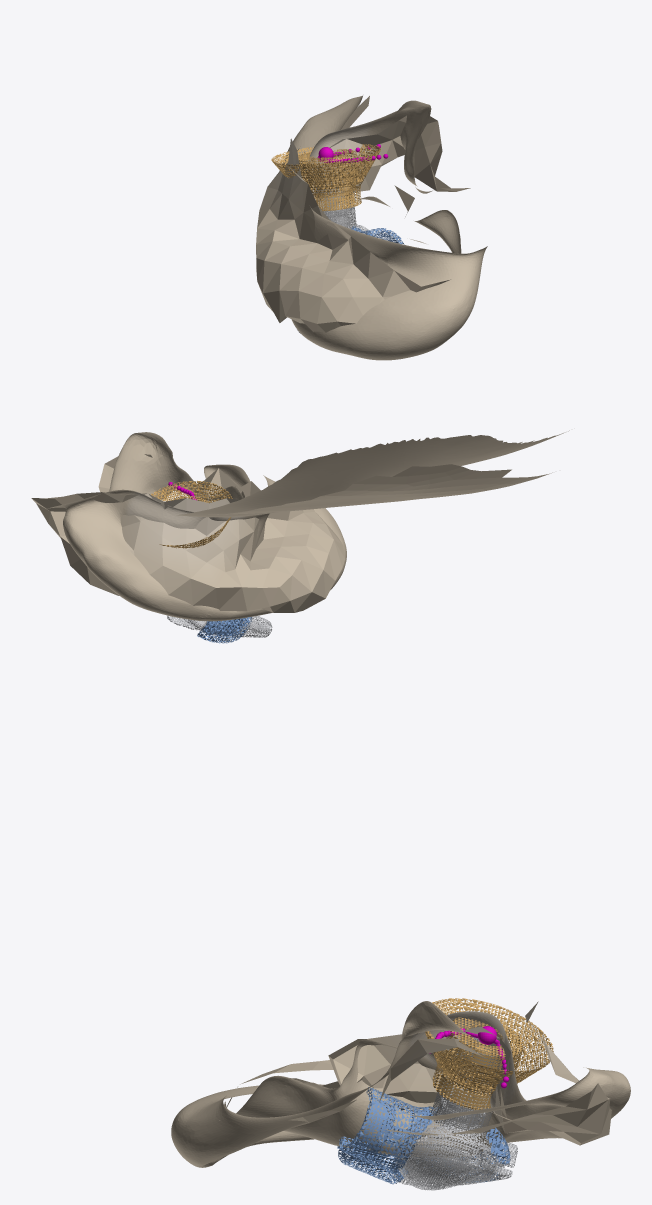
The model's file is marked_P0023.glb.
The picture shows the model from 3 angles, top to bottom: view 1: azimuth 30°, elevation 25°; view 2: azimuth 150°, elevation 25°; view 3: azimuth 270°, elevation 25°; orthographic projection. The views are drawn at different scales.
Parts seen in each view (by area): view 1: ear, carrier, nozzle_insert_short; view 2: ear, carrier, jacket_wing, core; view 3: ear, carrier, jacket_wing, core, faceplate, nozzle_insert_short.
Boxes of the visible parts, box(x1,y1,x2,y2) form: ear: box(256, 95, 487, 360); carrier: box(271, 144, 380, 211); nozzle_insert_short: box(313, 164, 356, 228); ear: box(31, 430, 569, 621); carrier: box(151, 480, 232, 548); jacket_wing: box(197, 617, 252, 643); core: box(167, 615, 272, 637); ear: box(171, 1001, 630, 1167); carrier: box(425, 998, 553, 1110); jacket_wing: box(337, 1087, 510, 1184); core: box(393, 1092, 517, 1188); faceplate: box(396, 1145, 494, 1190); nozzle_insert_short: box(431, 1037, 498, 1136).
Size of the model in its own units: 84.99 by 54.62 by 84.99.
